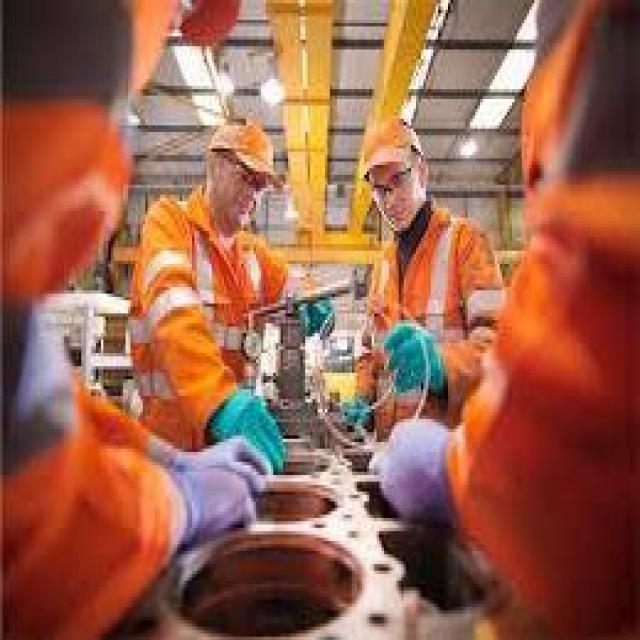reflective_jacket: (122, 195, 281, 421), (362, 210, 500, 402)
